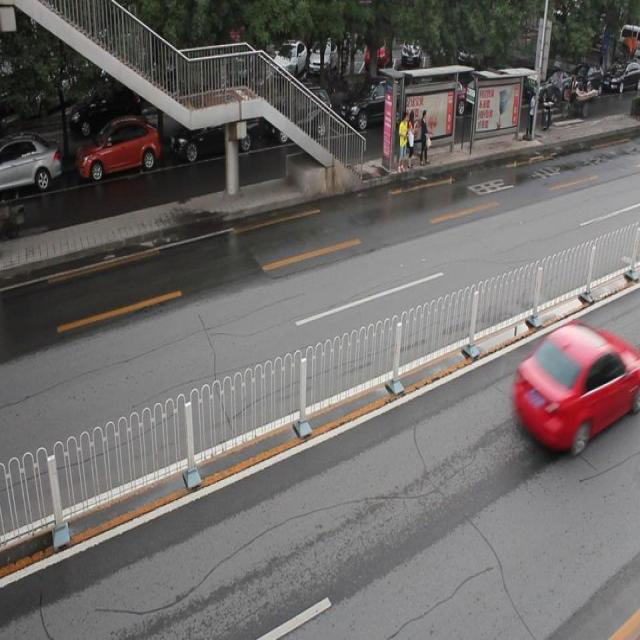car: (511, 321, 640, 445), (75, 116, 161, 184), (171, 97, 258, 160), (339, 73, 412, 132), (266, 84, 332, 144), (1, 136, 63, 194)
